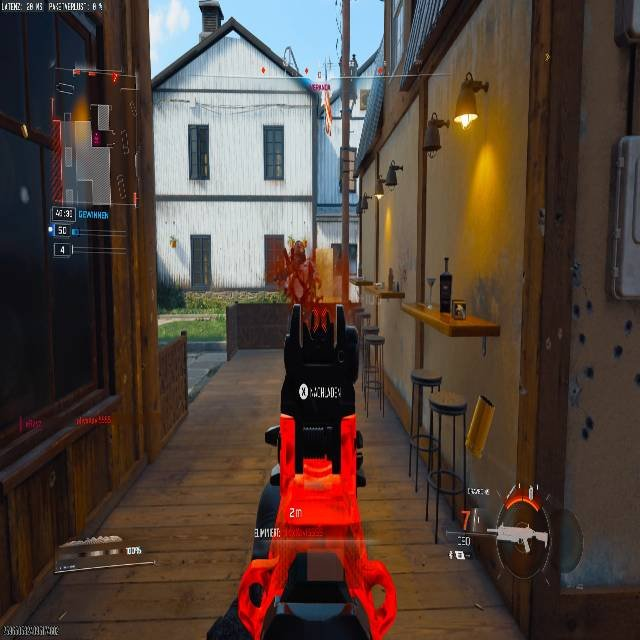player: (277, 247, 316, 315)
